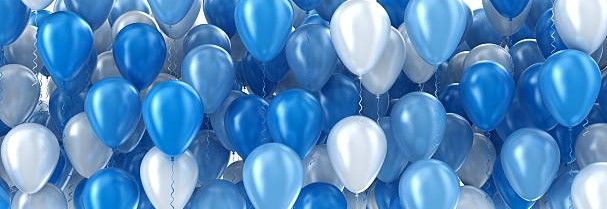Balloon: (537, 50, 600, 126), (326, 115, 387, 192), (330, 1, 392, 74), (501, 127, 561, 201), (144, 80, 202, 154), (241, 141, 303, 209), (405, 1, 467, 66), (1, 123, 59, 191), (460, 61, 514, 134), (389, 92, 446, 159), (36, 14, 95, 78), (84, 79, 141, 144), (235, 1, 293, 61), (113, 23, 166, 82), (79, 168, 143, 209), (554, 1, 607, 50), (1, 64, 37, 126)
